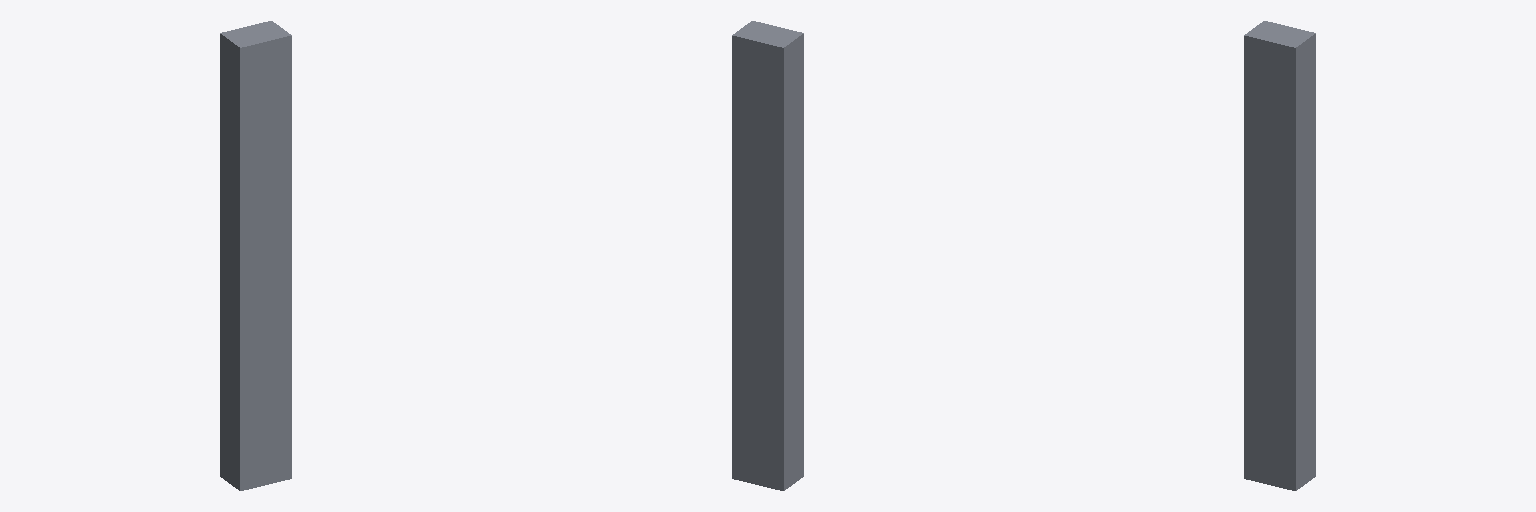
The robot description file, URDF, robot "artmanip_knife_000":
<?xml version='1.0' encoding='utf-8'?>
<robot name="artmanip_knife_000"><link name="link_0"><inertial><mass value="0.02872466529731397" /><inertia ixx="4.4694946985111166e-05" iyy="4.505034068860825e-05" izz="9.70059391834842e-07" ixy="0" ixz="0" iyz="0" /></inertial><visual><geometry><box size="0.016639118647856756 0.01133098389035897 0.13617395011251493" /></geometry><material name="link_0_color"><color rgba=".58 .60 .64 1" /></material></visual><collision><geometry><box size="0.016639118647856756 0.01133098389035897 0.13617395011251493" /></geometry></collision></link><link name="link_1"><inertial><mass value="0.004784159270148417" /><inertia ixx="3.610932098059514e-07" iyy="3.9867993917903477e-07" izz="4.2149258462723576e-08" ixy="0" ixz="0" iyz="0" /></inertial><visual><geometry><mesh filename="slider-shoulder.obj" scale="1 0.7973598783580695 1" /></geometry><material name="link_1_color"><color rgba=".12 .13 .15 1" /></material></visual><collision><geometry><mesh filename="slider-shoulder.obj" scale="1 0.7973598783580695 1" /></geometry></collision></link><joint name="slider" type="prismatic"><parent link="link_0" /><child link="link_1" /><origin xyz="0.0002765696280858361 0.006861531762716588 0.010367702540639918" /><axis xyz="0 0 1" /><limit lower="-0.03267458688196273" upper="0.017325413118037272" effort="100" velocity="1" /><dynamics damping="1000" friction="0.001" /></joint></robot>

--- What the picture shows (computed from the rendered views, not written in the file) ---
3 views of the same robot in one strip: view 1: azimuth 30°, elevation 25°; view 2: azimuth 150°, elevation 25°; view 3: azimuth 330°, elevation 25° (orthographic).
Robot: artmanip_knife_000 — 2 links, 1 joints (1 prismatic); root link link_0; default pose: all joints at 0.
Links seen in each view (by area): view 1: link_0; view 2: link_0; view 3: link_0.
Boxes of the visible links, x1,y1,x2,y2 form: link_0: (220,21,291,490); link_0: (732,21,803,490); link_0: (1244,21,1315,490).
Bounding box of the posed robot: 0.0166 × 0.0113 × 0.1362 m (x, y, z).
Meshes: 1 distinct files referenced, 0 mesh visuals loaded (none loaded); not drawn: 1 (reference not matched to a file when rendering).
